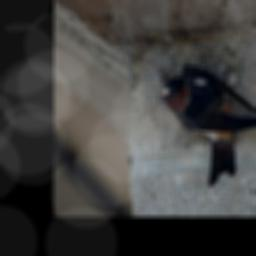Swallow: (159, 62, 256, 185)
